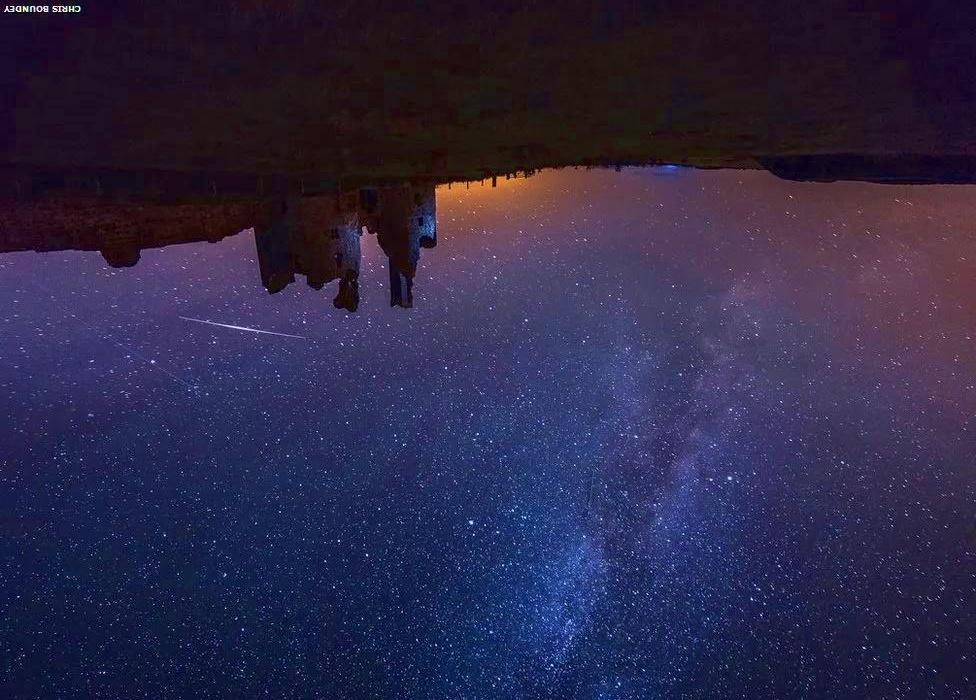meteorite: (172, 311, 319, 341)
